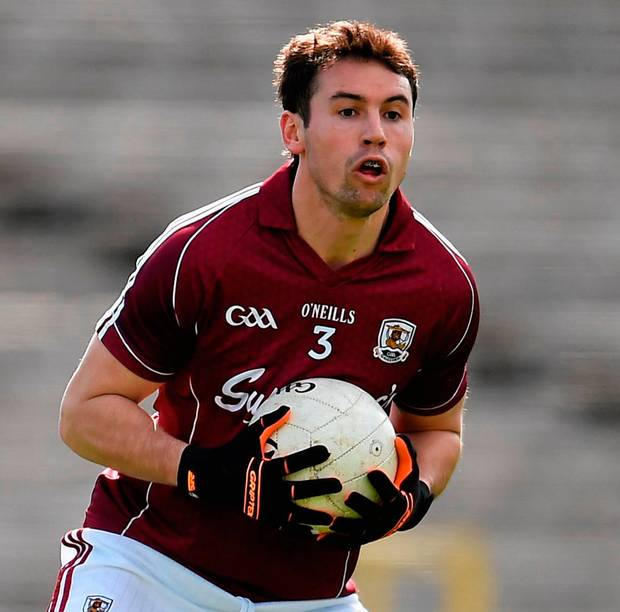ball: (235, 373, 398, 547)
player: (96, 5, 475, 605)
